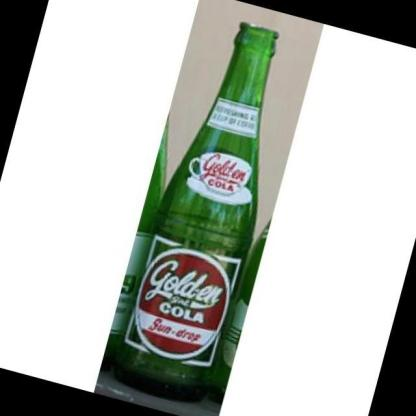Can: (112, 22, 281, 404)
